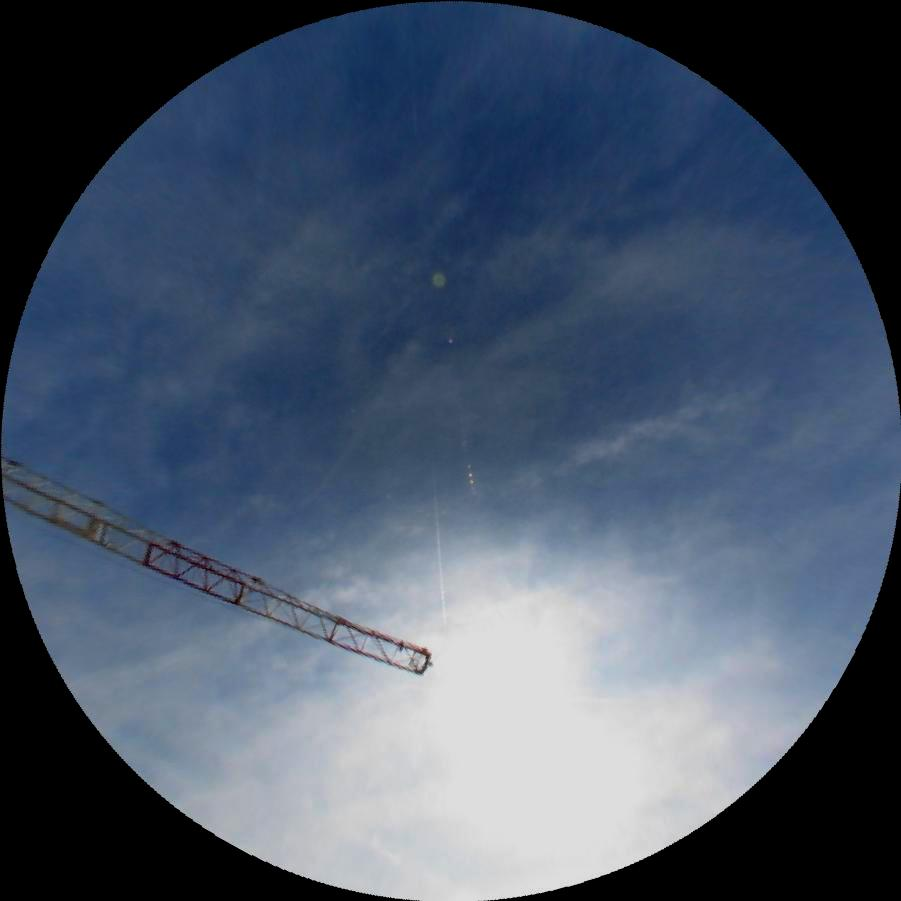contrail young: (431, 468, 445, 624)
